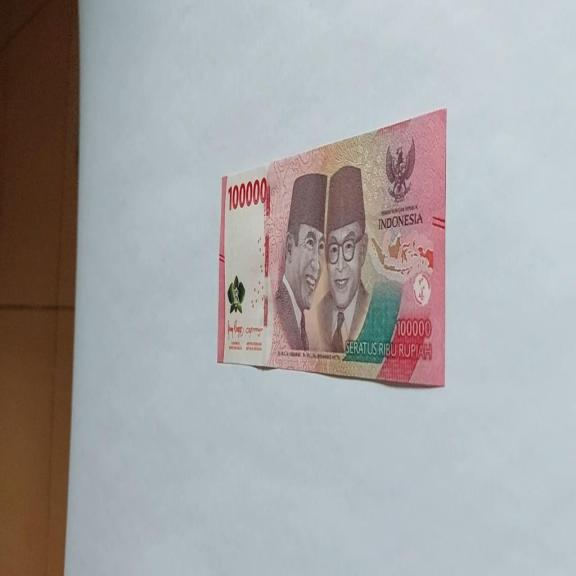Kertas: (216, 106, 448, 388), (227, 175, 268, 211)
